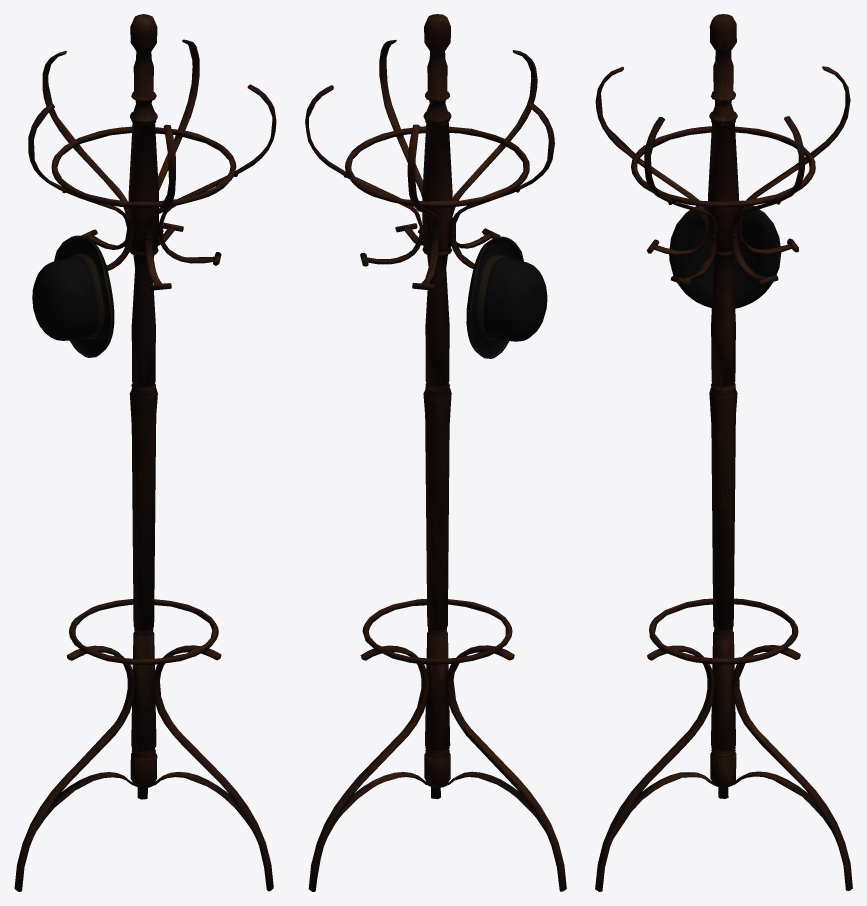
The model's file is coat_rack_bowler_hat.glb.
3 views of the same model, side by side, from view 1: azimuth 30°, elevation 25°; view 2: azimuth 150°, elevation 25°; view 3: azimuth 270°, elevation 25° (orthographic).
Visible parts, largest first — view 1: Object_4, Object_2, Object_3; view 2: Object_4, Object_2, Object_3; view 3: Object_4, Object_2.
Part boxes in pixels (x1,y1,x2,y2): Object_4: (14,14,276,891); Object_2: (32,237,114,356); Object_3: (54,235,112,357); Object_4: (305,14,566,891); Object_2: (466,238,547,357); Object_3: (468,236,523,358); Object_4: (595,14,852,891); Object_2: (670,206,779,308).
Size of the model in its own units: 2.7 by 9.77 by 2.71.
3 materials, 2 textured.
